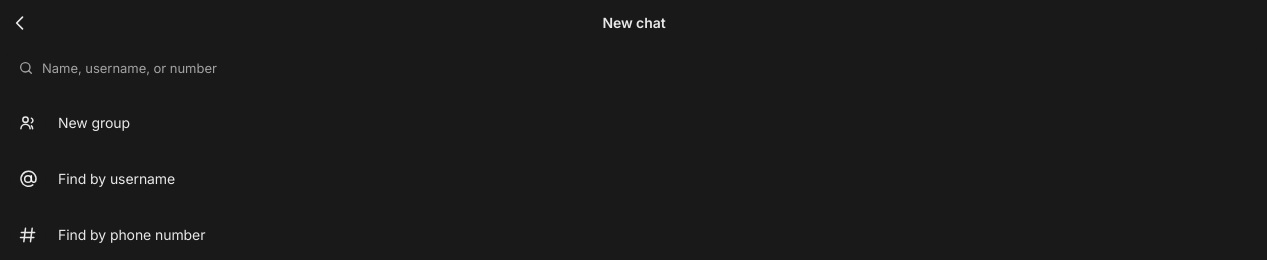
NewChatPanel › does not offer to add a search term that is not a phone number
Type "zebra" into the field with placeholder "Name, username, or number".
click(646, 68); type("zebra")  # box [42,55,1250,81]
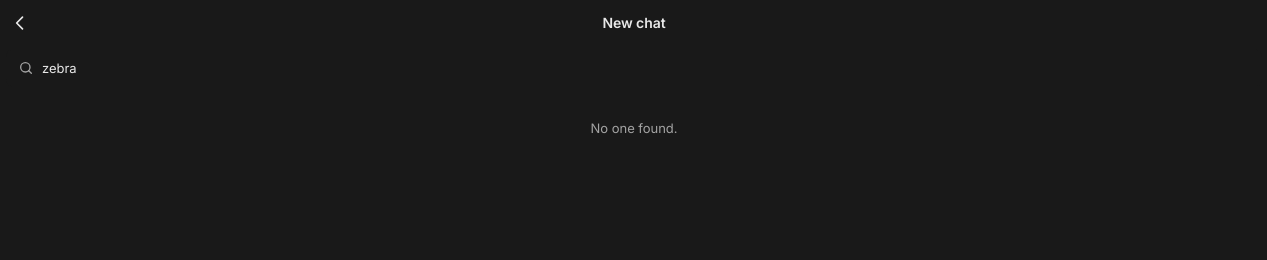
expect the text "No one found." is shown: met, box [591,120,678,136]
